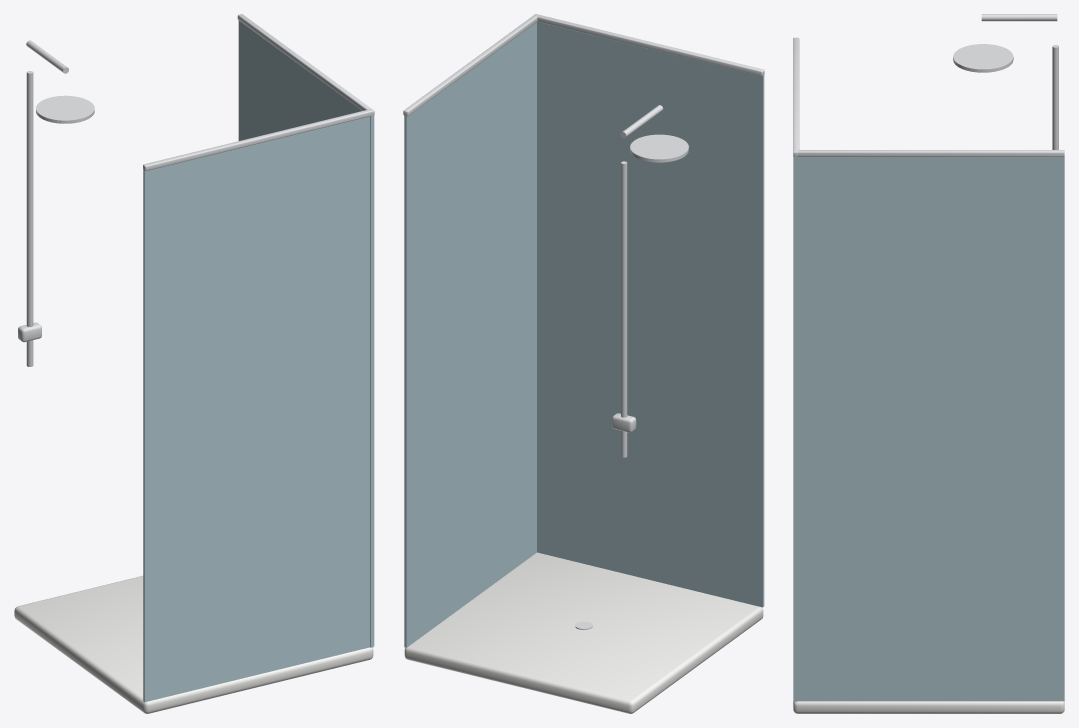
File: duche.glb
3 renders of one model, left to right at view 1: azimuth 30°, elevation 25°; view 2: azimuth 150°, elevation 25°; view 3: azimuth 270°, elevation 25°, orthographic. The views are drawn at different scales.
Parts seen in each view (by area): view 1: p; view 2: p; view 3: p.
Part boxes in pixels (left/top/right/bottom): p: left=14, top=14, right=374, bottom=713; p: left=403, top=14, right=764, bottom=713; p: left=793, top=14, right=1064, bottom=713.
Bounding box in the file's own units: 0.95 × 2.17 × 0.9.
